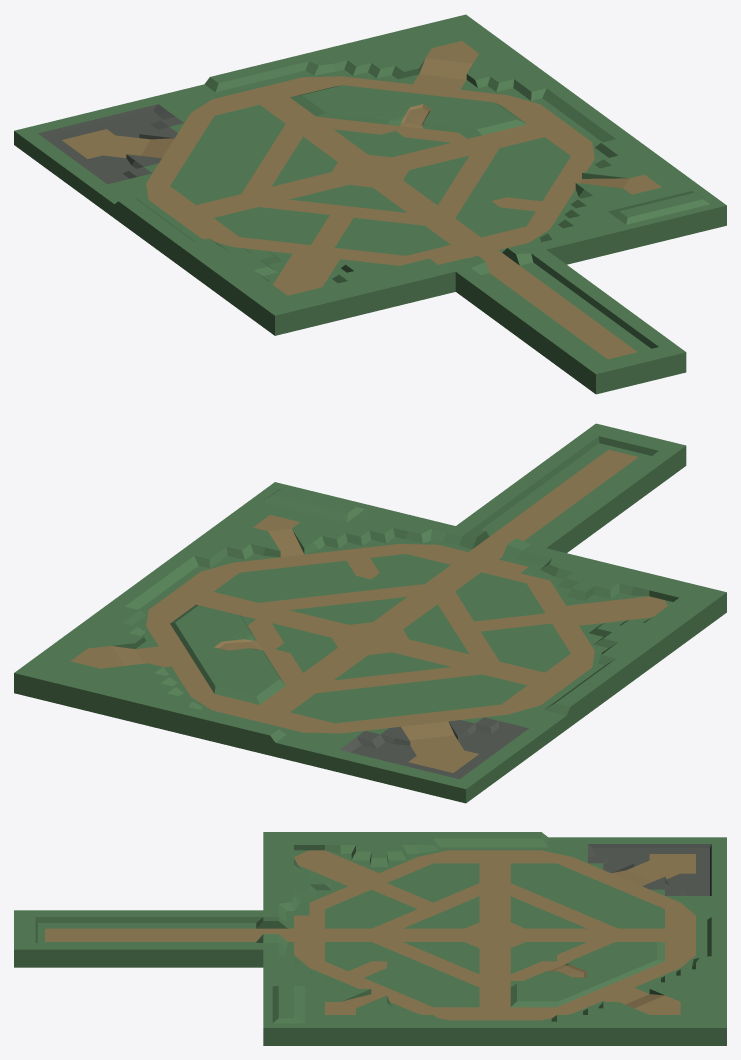
File: TerrenoDEF.fbx
The picture shows the model from 3 angles, top to bottom: view 1: azimuth 30°, elevation 25°; view 2: azimuth 150°, elevation 25°; view 3: azimuth 270°, elevation 25°; orthographic projection. The views are drawn at different scales.
Visible parts, largest first — view 1: Terreno; view 2: Terreno; view 3: Terreno.
Boxes of the visible parts, x1,y1,x2,y2 form: Terreno: [14, 14, 726, 394]; Terreno: [14, 423, 726, 803]; Terreno: [14, 832, 726, 1045].
Size of the model in its own units: 150 by 7.55 by 231.
